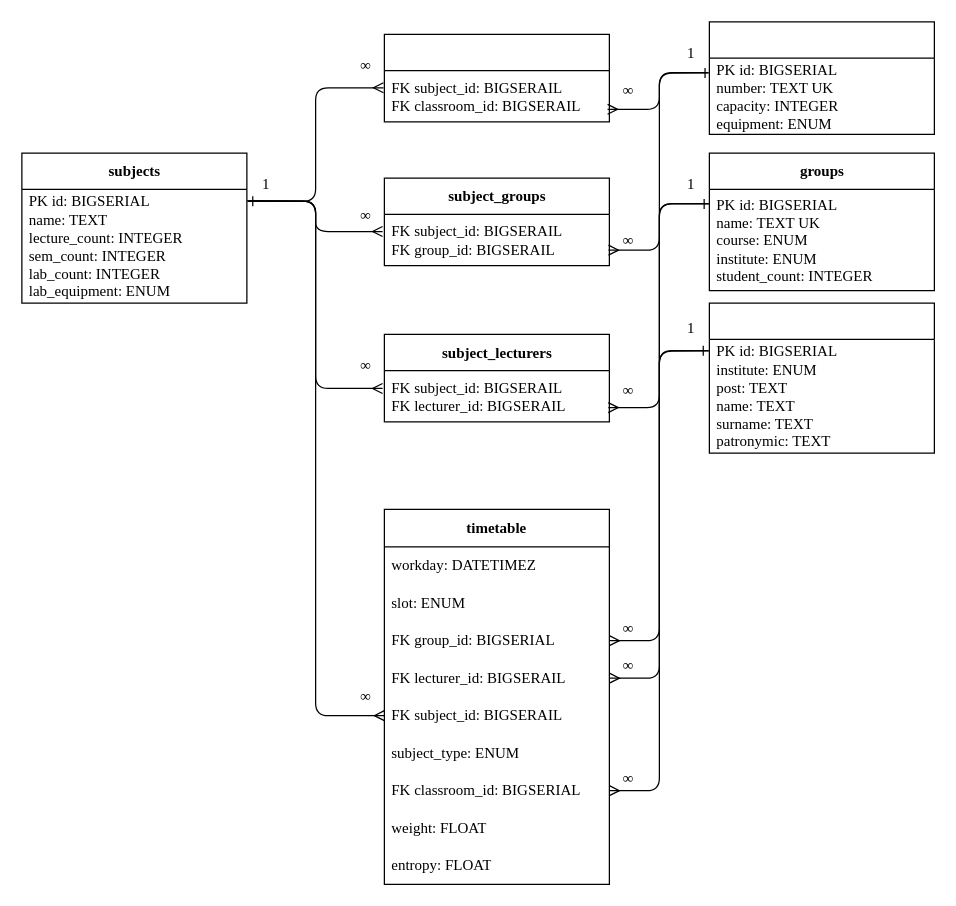
Image size: 956x906. Some labels were removed from this diagram. Here are the shapes that lost their labels. From the top down, the box of each, then its label:
(383, 33, 609, 122): subject_classrooms
(708, 21, 934, 134): classrooms
(708, 302, 934, 453): lecturers
